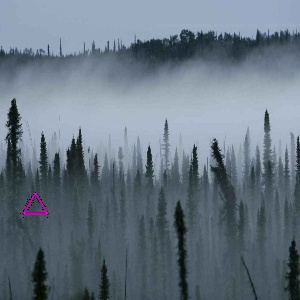triangle: (21, 189, 51, 219)
